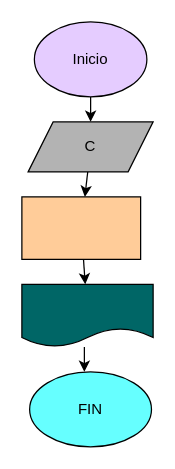
This 175x469 diagram has some shape labels left out. Each missing label, with the centre of its shape:
"K,F" belongs at [87,315].
"k=°C + 273.15 F=(°C+* 9/5) +32" belongs at [81,227].
